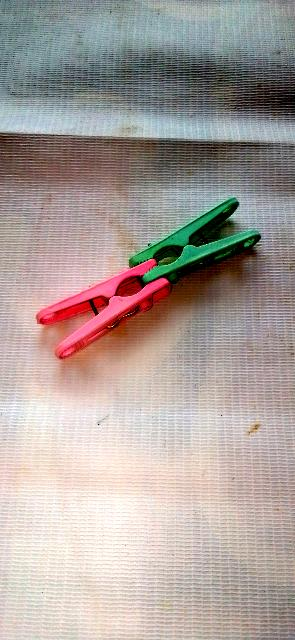hardplastic: (31, 174, 263, 363)
